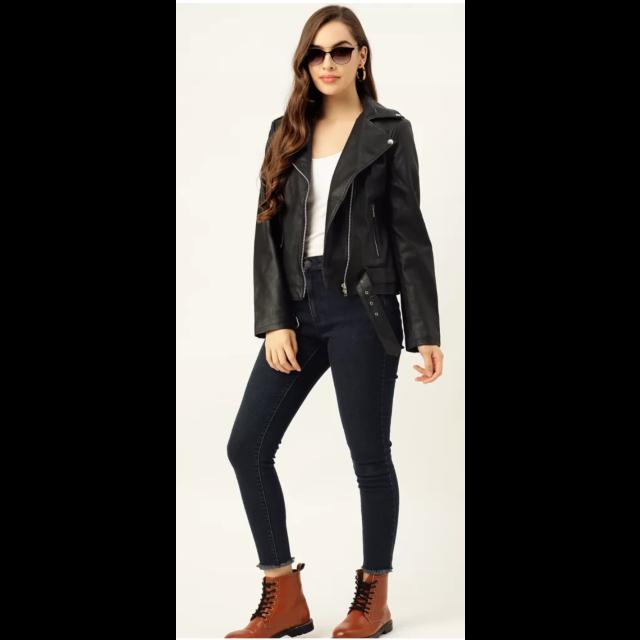bottom: (230, 287, 400, 571)
jacket: (257, 111, 437, 309)
shoes: (230, 568, 316, 640), (334, 566, 394, 640)
